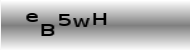5: (57, 12, 71, 26)
B: (40, 23, 54, 37)
H: (92, 11, 107, 26)
e: (25, 12, 39, 23)
w: (73, 16, 90, 27)
